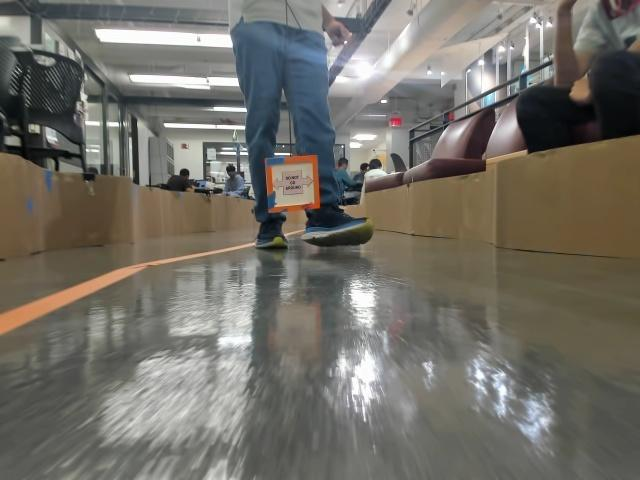Do Not Go Around: (272, 172, 311, 195)
